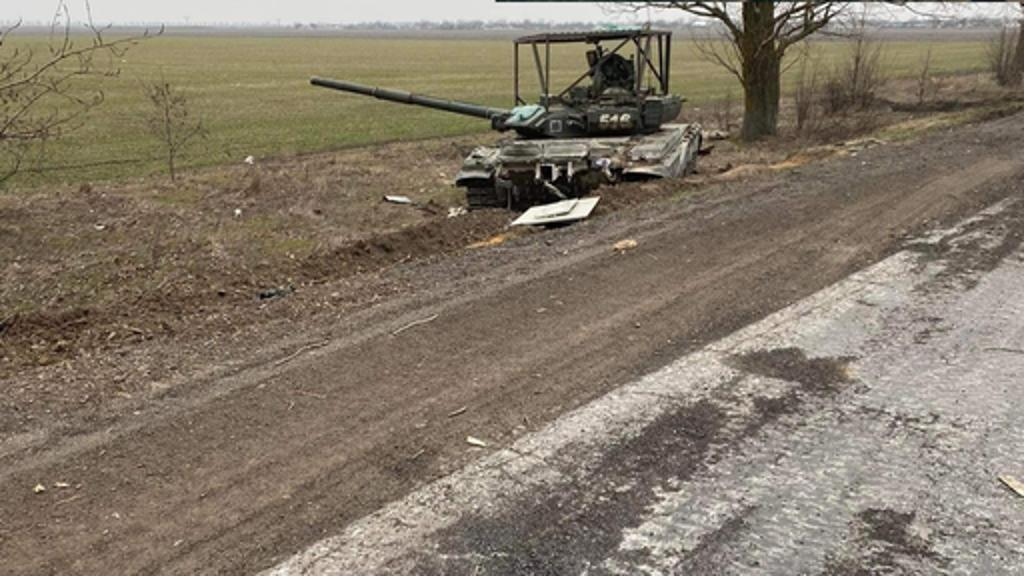TANK: (300, 22, 716, 216)
